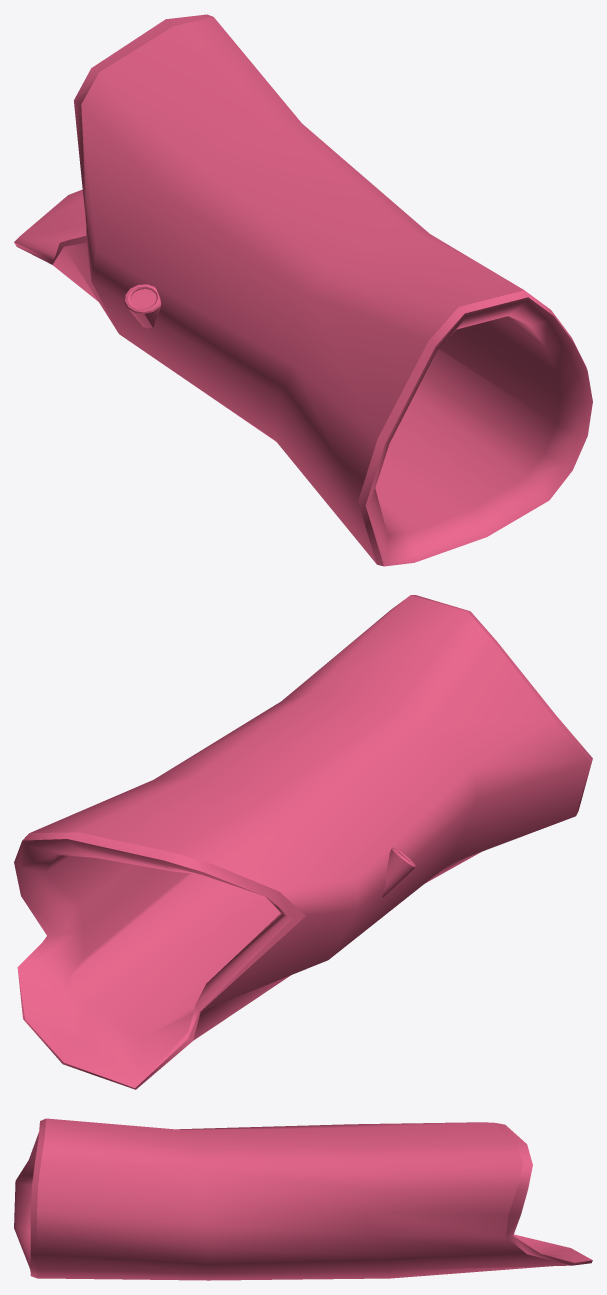
File: Log_2.fbx
3 renders of one model, top to bottom at view 1: azimuth 30°, elevation 25°; view 2: azimuth 150°, elevation 25°; view 3: azimuth 270°, elevation 25°, orthographic. The views are drawn at different scales.
Visible parts, largest first — view 1: Log_2_low; view 2: Log_2_low; view 3: Log_2_low.
Part boxes in pixels (box(x1,y1,x2,y2)): Log_2_low: box(14, 14, 592, 566); Log_2_low: box(14, 595, 592, 1089); Log_2_low: box(14, 1118, 592, 1280).
Size of the model in its own units: 0.3868 by 0.3013 by 1.05.
